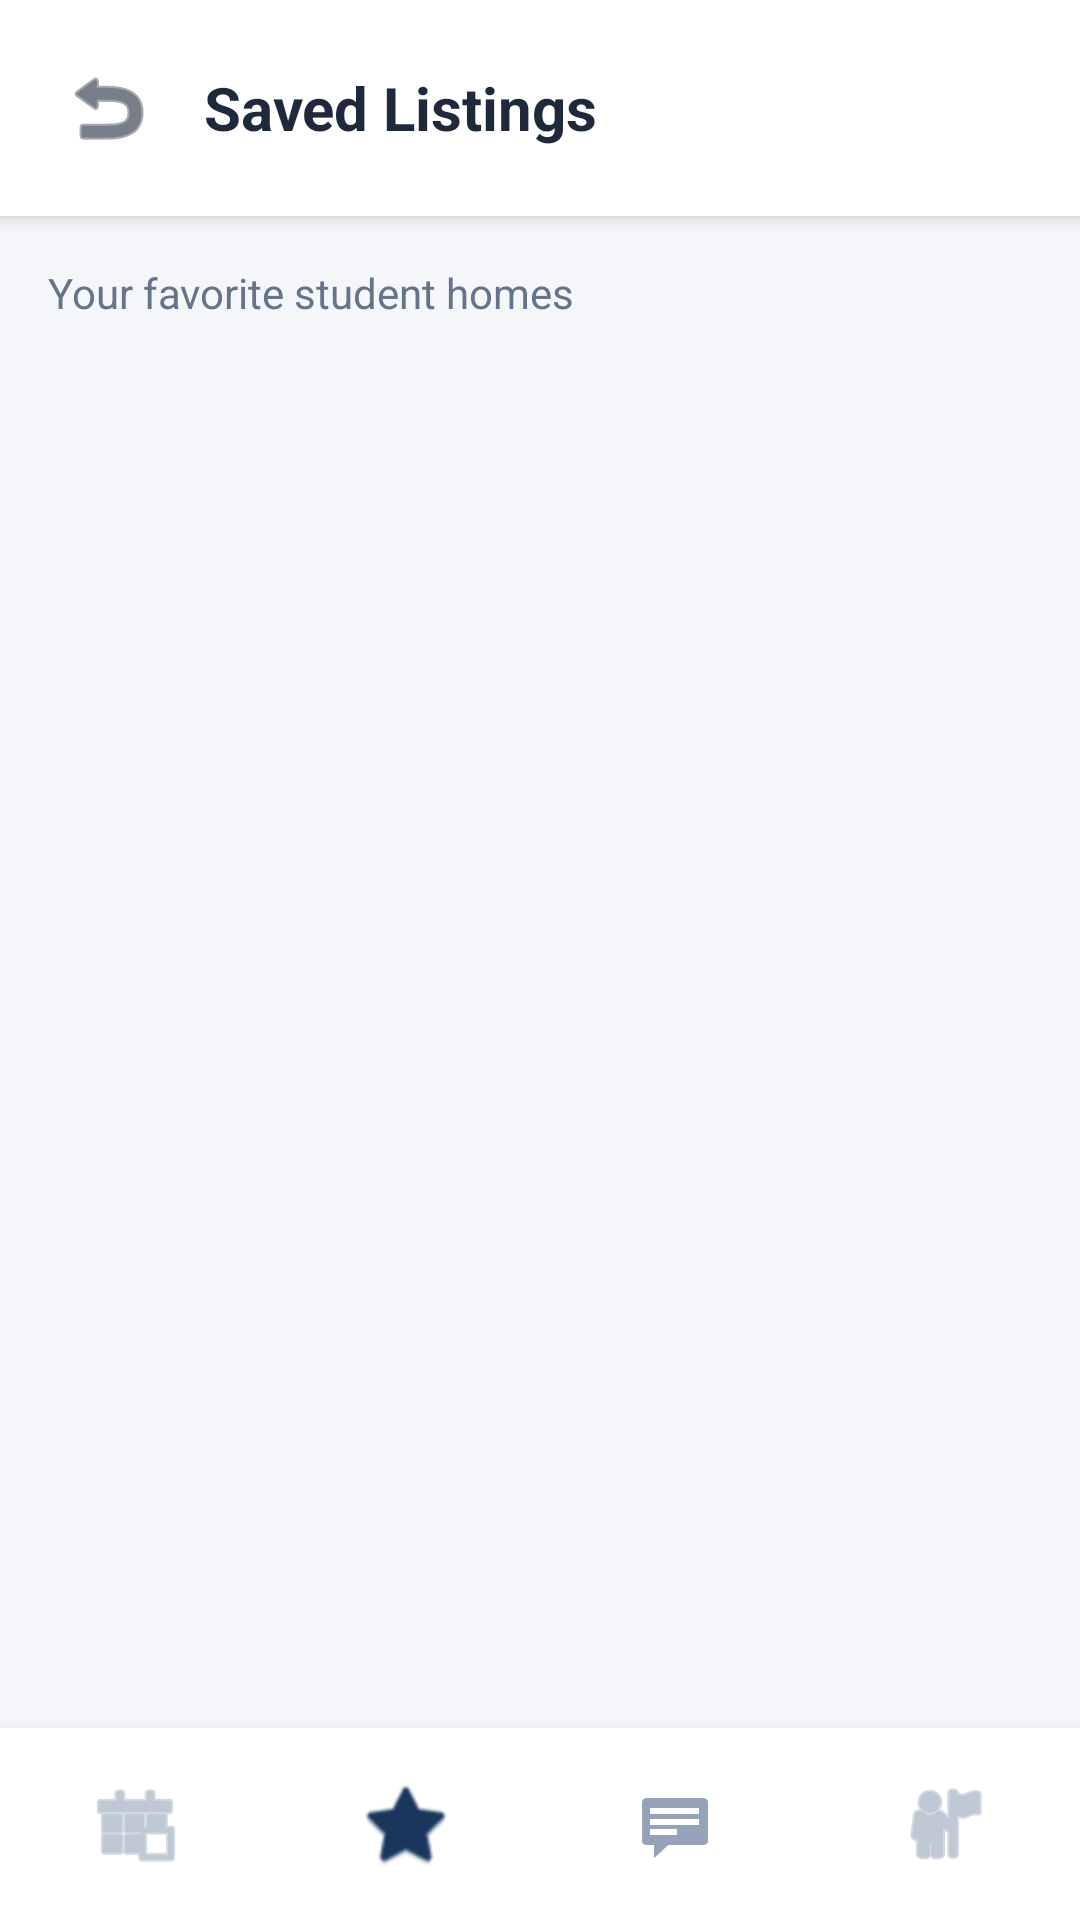

Icon bounding boxes for this 1080x1920 phone screenshot, format {"x1": x1, "y1": y1, "x2": x2, "y2": y2}:
Back: {"x1": 75, "y1": 77, "x2": 144, "y2": 140}
Chat: {"x1": 642, "y1": 1798, "x2": 708, "y2": 1858}
Profile: {"x1": 910, "y1": 1789, "x2": 982, "y2": 1859}
Saved: {"x1": 366, "y1": 1786, "x2": 446, "y2": 1864}
